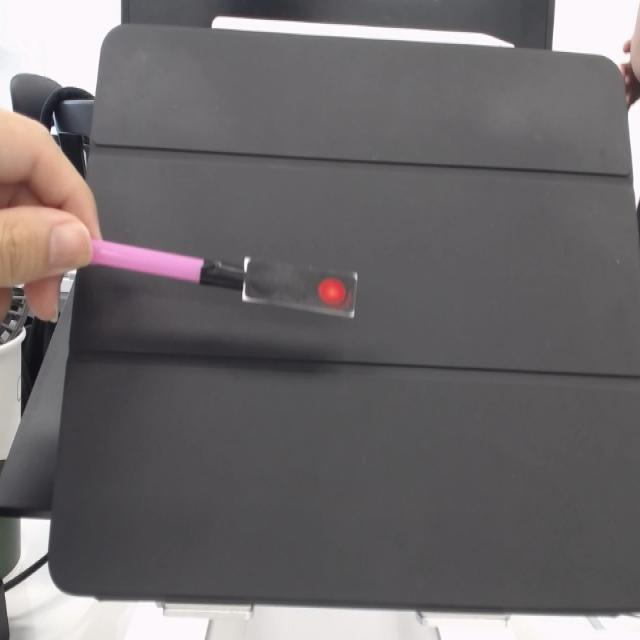traffic light: (240, 259, 361, 323)
